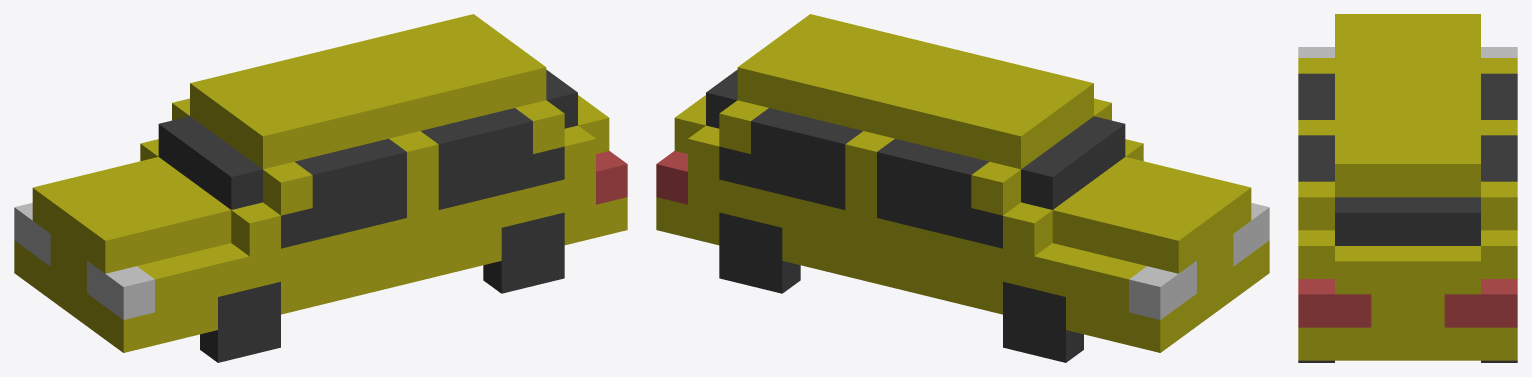
Rendered from car-v3-yellow.gltf.
3 views of the same model, side by side, from view 1: azimuth 30°, elevation 25°; view 2: azimuth 150°, elevation 25°; view 3: azimuth 270°, elevation 25° (orthographic).
Parts seen in each view (by area): view 1: model, wheels; view 2: model, wheels; view 3: model, wheels.
Part boxes in pixels (x1,y1,x2,y2): model: [14, 14, 627, 352]; wheels: [200, 212, 564, 362]; model: [656, 14, 1269, 352]; wheels: [719, 212, 1083, 362]; model: [1298, 14, 1517, 360]; wheels: [1298, 360, 1517, 362].
Bounding box in the file's own units: 1.6 × 0.6 × 0.6.
2 materials, 2 textured.
